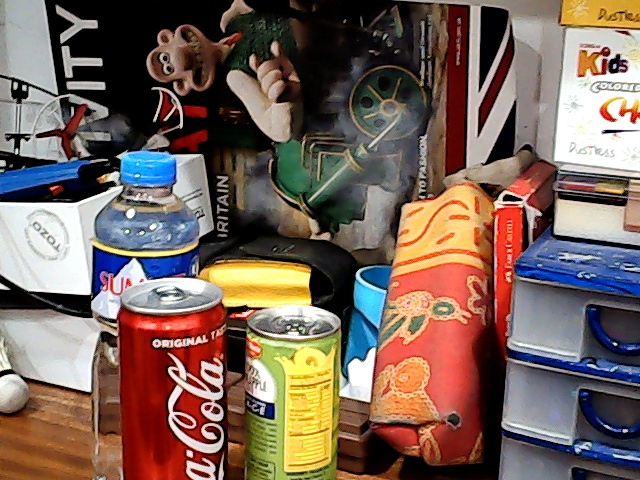Cola: (108, 281, 237, 480)
Pine Juice: (236, 291, 349, 480)
Summit Water: (80, 145, 206, 292)
